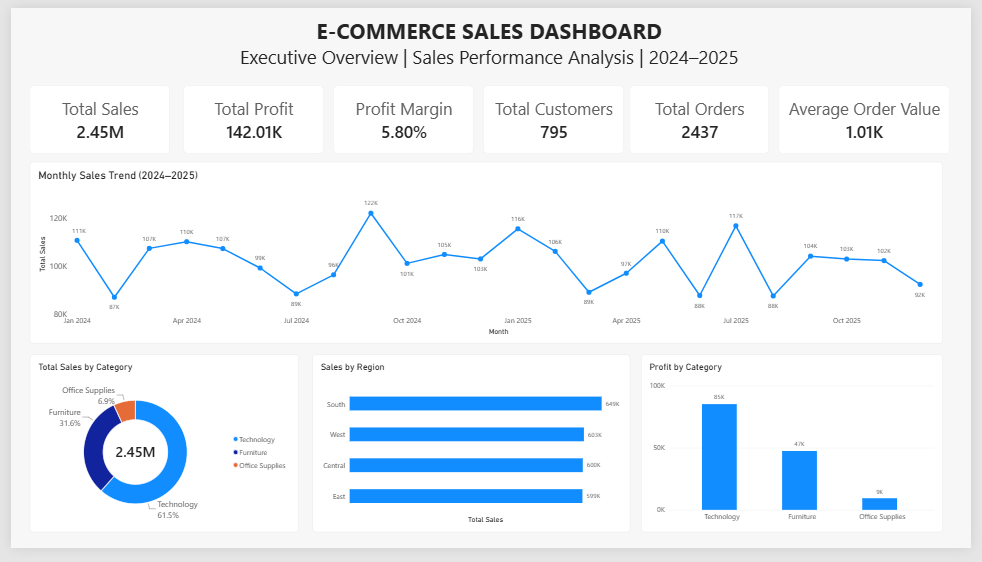

The dashboard page shown, as its layout file describes it:
{"tool":"powerbi","page":{"name":"Executive Overview","canvas":[1920,1080],"ordinal":0},"visuals":[{"type":"cardVisual","fields":{"Data":["SalesData.Total Sales"]},"box":[38,156,280,136],"z":0},{"type":"cardVisual","fields":{"Data":["SalesData.Total Profit"]},"box":[346,156,280,136],"z":1000},{"type":"cardVisual","fields":{"Data":["SalesData.Total Orders"]},"box":[1238,156,278,136],"z":2000},{"type":"cardVisual","fields":{"Data":["SalesData.Total Customers"]},"box":[944,156,280,136],"z":3000},{"type":"cardVisual","fields":{"Data":["SalesData.Profit Margin"]},"box":[644,156,280,136],"z":4000},{"type":"cardVisual","fields":{"Data":["SalesData.Average Order Value"]},"box":[1534,156,342,136],"z":5000},{"type":"textbox","box":[38,16,1838,118],"z":6000},{"type":"lineChart","title":"Monthly Sales Trend (2024–2025)","fields":{"Category":["SalesData.Order_Date.Variation.Date Hierarchy.Year","SalesData.Order_Date.Variation.Date Hierarchy.Month"],"Y":["SalesData.Total Sales"]},"box":[38,308,1826,364],"z":7000},{"type":"donutChart","fields":{"Category":["SalesData.Category"],"Y":["SalesData.Total Sales"]},"box":[38,692,538,356],"z":8000},{"type":"clusteredBarChart","title":"Sales by Region","fields":{"Category":["SalesData.Region"],"Y":["SalesData.Total Sales"]},"box":[602,692,636,356],"z":9000},{"type":"columnChart","title":"Profit by Category","fields":{"Category":["SalesData.Category"],"Y":["SalesData.Total Profit"]},"box":[1260,692,604,356],"z":10000}]}

Visuals, with their boxes in screenshot pixels (x1, y1, x2, y2), scaled from the page's 1920x1080 canvas onto the 982x562 screenshot:
cardVisual - SalesData.Total Sales: left=19, top=81, right=163, bottom=152
cardVisual - SalesData.Total Profit: left=177, top=81, right=320, bottom=152
cardVisual - SalesData.Total Orders: left=633, top=81, right=775, bottom=152
cardVisual - SalesData.Total Customers: left=483, top=81, right=626, bottom=152
cardVisual - SalesData.Profit Margin: left=329, top=81, right=473, bottom=152
cardVisual - SalesData.Average Order Value: left=785, top=81, right=959, bottom=152
textbox: left=19, top=8, right=959, bottom=70
"Monthly Sales Trend (2024–2025)" lineChart: left=19, top=160, right=953, bottom=350
donutChart - SalesData.Category x SalesData.Total Sales: left=19, top=360, right=295, bottom=545
"Sales by Region" clusteredBarChart: left=308, top=360, right=633, bottom=545
"Profit by Category" columnChart: left=644, top=360, right=953, bottom=545
